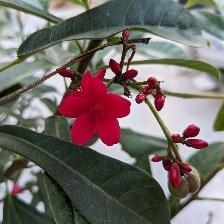jatropha: (60, 76, 139, 155)
